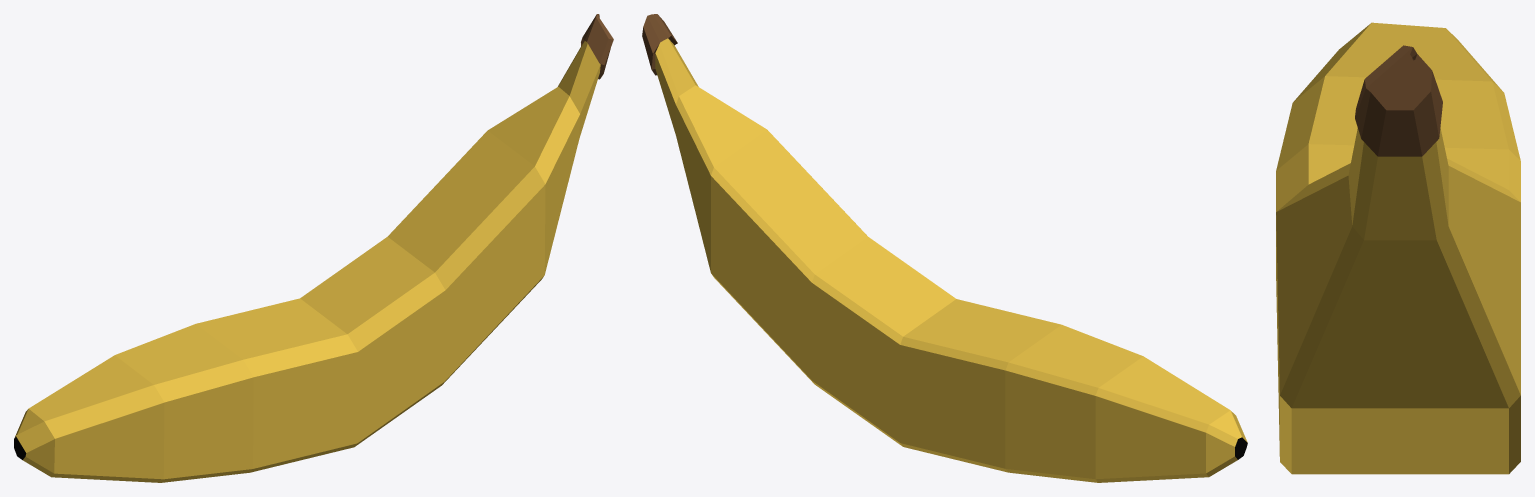
The model's file is banana.fbx.
The picture shows the model from 3 angles, left to right: view 1: azimuth 30°, elevation 25°; view 2: azimuth 150°, elevation 25°; view 3: azimuth 270°, elevation 25°; orthographic projection. The views are drawn at different scales.
Parts seen in each view (by area): view 1: Banana; view 2: Banana; view 3: Banana.
Boxes of the visible parts, x1=… form: Banana: x1=14, y1=14, x2=613, y2=482; Banana: x1=642, y1=14, x2=1247, y2=482; Banana: x1=1276, y1=22, x2=1520, y2=474.
Bounding box in the file's own units: 1211 × 677 × 218.
